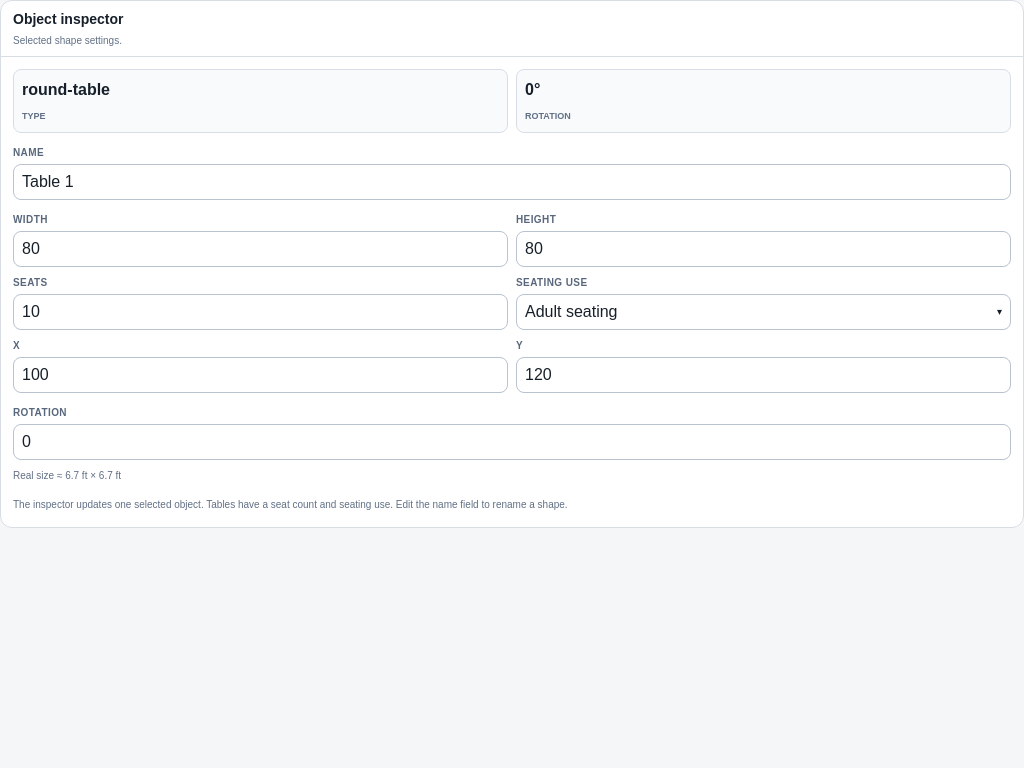
Test: HallMapObjectInspector numeric fields › reports typed text that is not a number instead of swallowing it
Replace the text in the field labelled "Width" with "abc" at (260, 248), box x1=13 y1=230 x2=508 y2=266
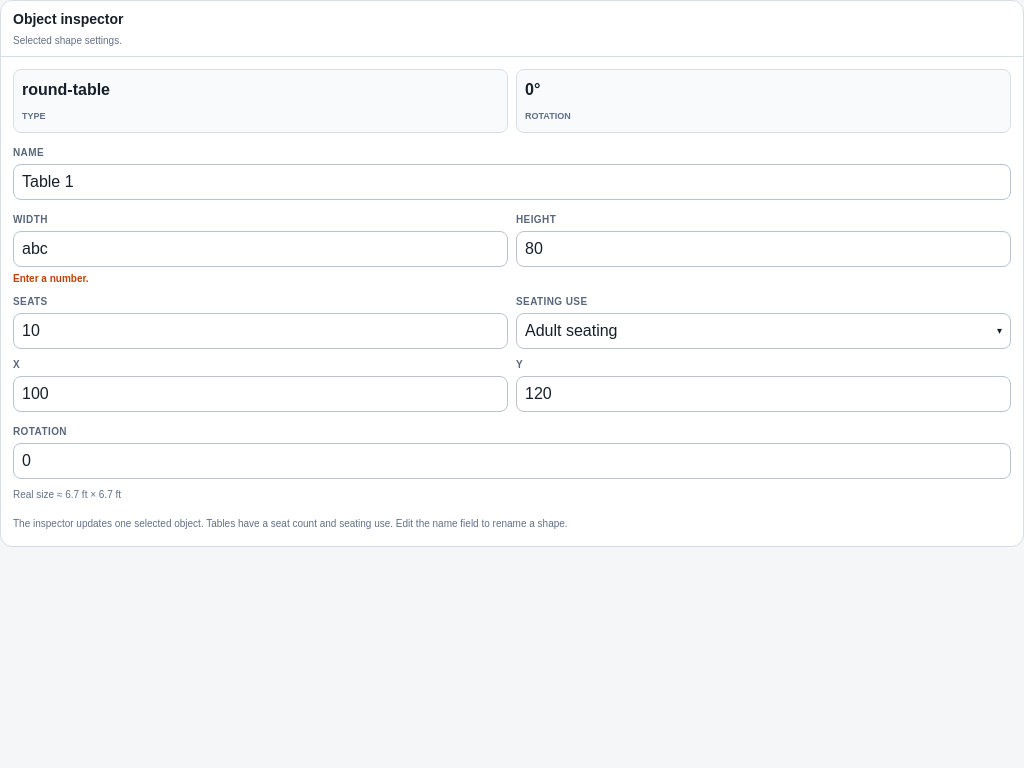
Expected: the message reads "Enter a number.", x1=13 y1=272 x2=89 y2=284
